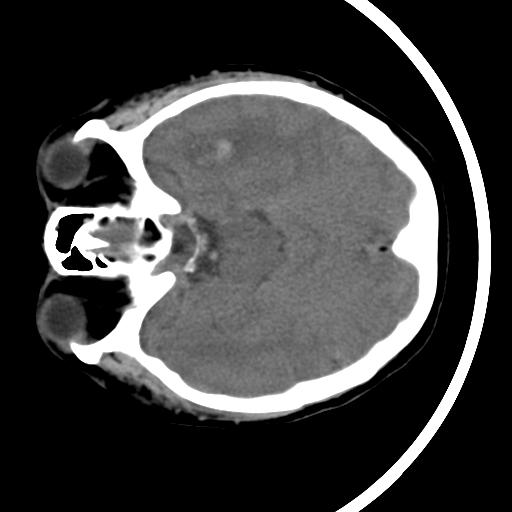a: (177, 119, 246, 177)
